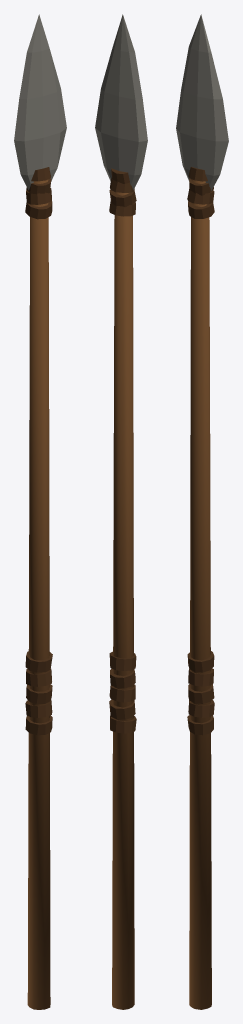
The model's file is wpn_spear.glb.
3 views of the same model, side by side, from view 1: azimuth 30°, elevation 25°; view 2: azimuth 150°, elevation 25°; view 3: azimuth 330°, elevation 25° (orthographic).
Parts seen in each view (by area): view 1: wpn_spear; view 2: wpn_spear; view 3: wpn_spear.
Boxes of the visible parts, box(x1,y1,x2,y2) form: wpn_spear: box(14, 14, 66, 1009); wpn_spear: box(95, 14, 147, 1009); wpn_spear: box(176, 14, 228, 1009).
Size of the model in its own units: 0.1062 by 1.9 by 0.051.
